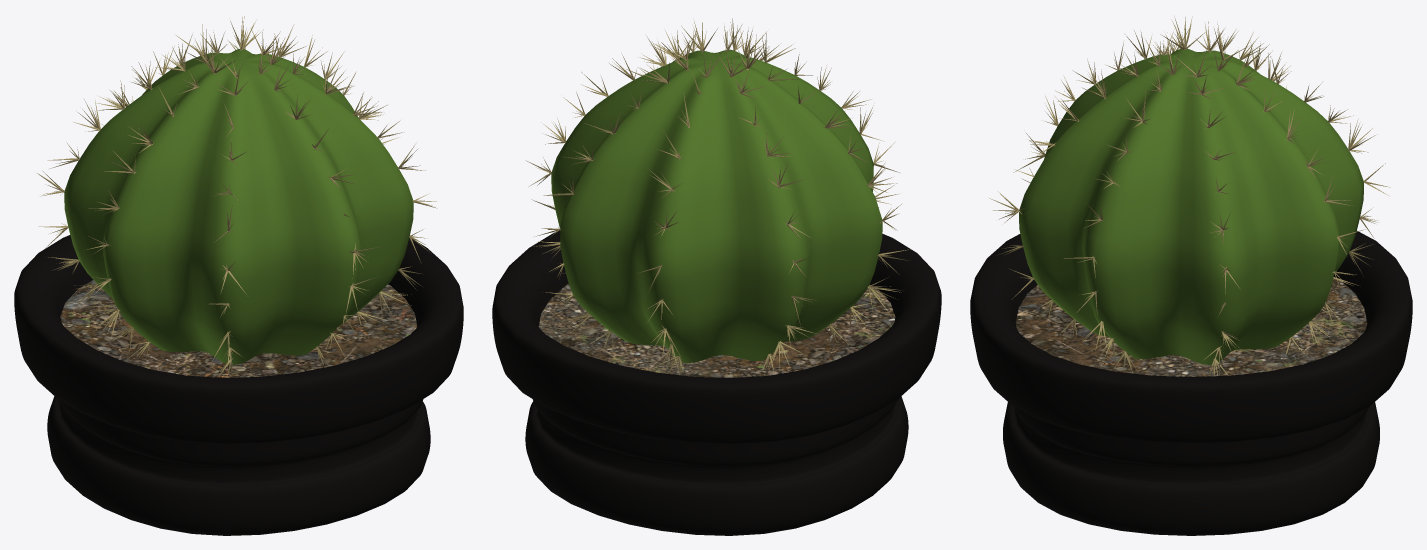
Rendered from cactus.glb.
3 views of the same model, side by side, from view 1: azimuth 30°, elevation 25°; view 2: azimuth 150°, elevation 25°; view 3: azimuth 270°, elevation 25° (orthographic).
Parts seen in each view (by area): view 1: Cylinder, Cube, Cylinder.001; view 2: Cylinder, Cube, Cylinder.001; view 3: Cylinder, Cube, Cylinder.001.
Boxes of the visible parts, x1,y1,x2,y2 form: Cylinder: (64, 49, 413, 365); Cube: (14, 235, 463, 535); Cylinder.001: (60, 280, 417, 377); Cylinder: (551, 49, 882, 362); Cube: (492, 230, 941, 535); Cylinder.001: (538, 284, 895, 377); Cylinder: (1019, 48, 1363, 365); Cube: (970, 231, 1412, 535); Cylinder.001: (1015, 278, 1367, 376).
Bounding box in the file's own units: 190 × 206 × 190.
4 materials, 1 textured.
